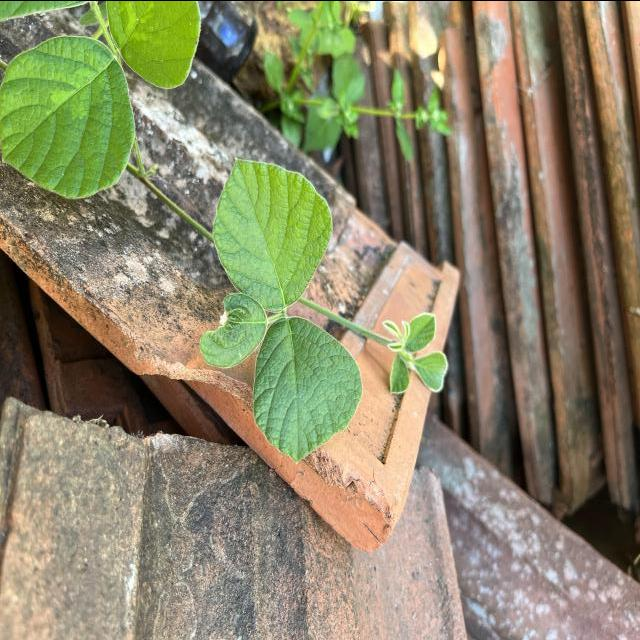Pseudarthria viscida: (197, 154, 367, 466)
